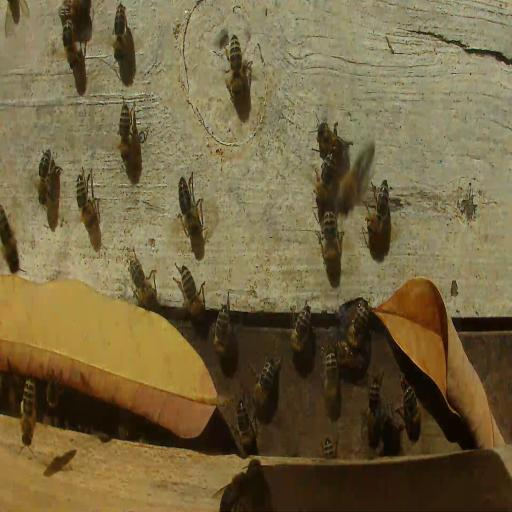bee: (335, 133, 376, 211), (337, 140, 376, 216), (315, 119, 349, 170), (174, 265, 202, 323), (366, 178, 392, 240), (17, 375, 38, 449), (251, 354, 276, 414), (130, 252, 156, 308), (178, 174, 200, 240), (320, 209, 341, 271), (234, 397, 256, 455), (346, 294, 370, 347), (75, 172, 96, 232), (314, 155, 337, 207), (118, 98, 136, 164), (402, 381, 424, 435), (228, 35, 246, 100), (0, 207, 18, 271), (289, 302, 312, 352), (367, 370, 384, 435), (335, 342, 366, 375), (324, 349, 341, 409), (211, 302, 230, 352), (113, 1, 128, 62), (37, 150, 51, 206), (62, 18, 76, 66), (58, 1, 86, 22), (321, 436, 337, 458)
